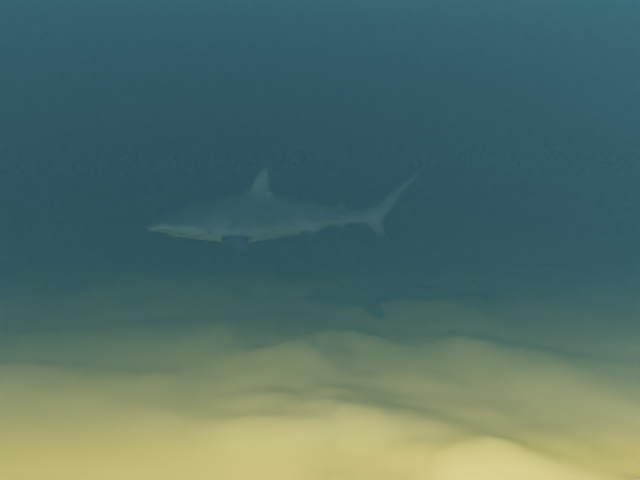Carribean Shark.001: (144, 164, 423, 258)
